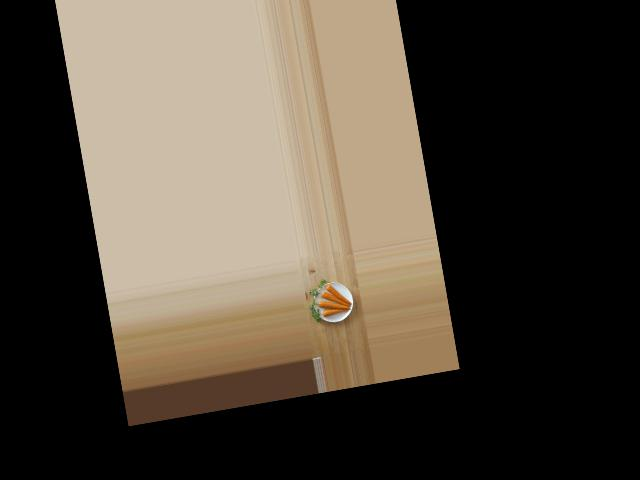carrot: (323, 279, 352, 308)
